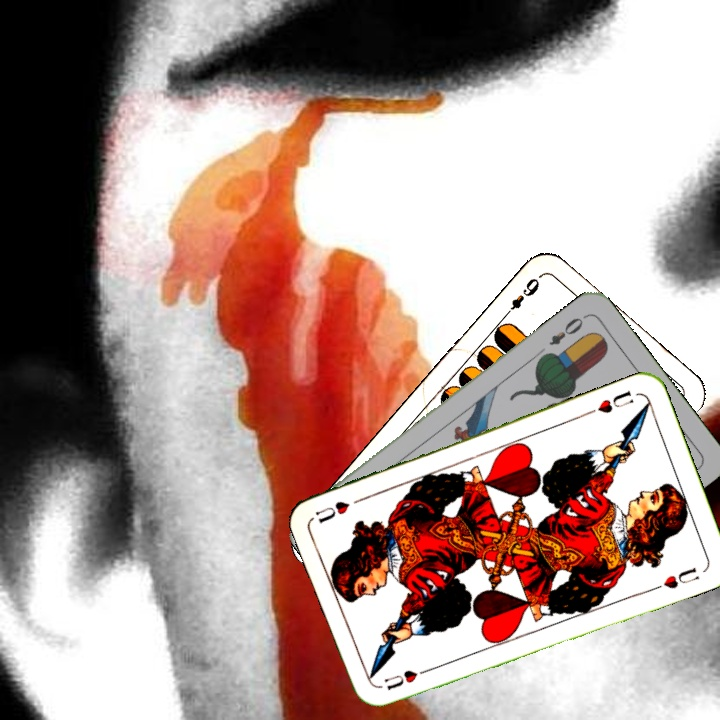E9: (499, 273, 543, 321)
EO: (545, 311, 589, 348)
HU: (583, 386, 636, 417), (380, 666, 420, 693)
